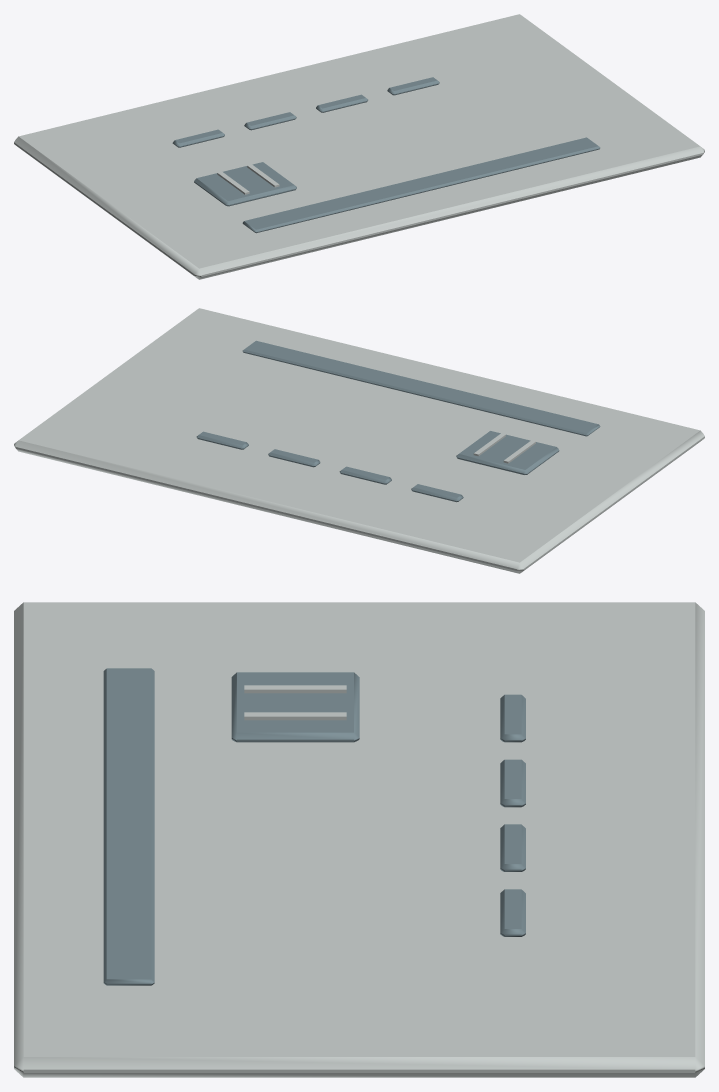
File: credit-card.glb
3 views of the same model, one above another, from view 1: azimuth 30°, elevation 25°; view 2: azimuth 150°, elevation 25°; view 3: azimuth 270°, elevation 25° (orthographic). The views are drawn at different scales.
Visible parts, largest first — view 1: card, signature_band, chip, raised_account_group.003, raised_account_group, raised_account_group.001, raised_account_group.002; view 2: card, signature_band, chip, raised_account_group, raised_account_group.001, raised_account_group.002, raised_account_group.003; view 3: card, signature_band, chip, raised_account_group, raised_account_group.001, raised_account_group.002, raised_account_group.003, chip_trace, chip_trace.001.
Part boxes in pixels (x1,y1,x2,y2): card: [14, 14, 704, 279]; signature_band: [242, 137, 600, 233]; chip: [194, 162, 296, 206]; raised_account_group.003: [387, 77, 439, 95]; raised_account_group: [172, 129, 224, 147]; raised_account_group.001: [244, 112, 296, 130]; raised_account_group.002: [316, 94, 367, 112]; card: [14, 308, 704, 573]; signature_band: [242, 340, 600, 436]; chip: [456, 431, 559, 474]; raised_account_group: [411, 484, 463, 502]; raised_account_group.001: [339, 466, 391, 484]; raised_account_group.002: [268, 449, 320, 467]; raised_account_group.003: [196, 431, 248, 449]; card: [14, 602, 704, 1077]; signature_band: [103, 668, 154, 985]; chip: [231, 672, 359, 742]; raised_account_group: [500, 694, 525, 742]; raised_account_group.001: [500, 759, 525, 807]; raised_account_group.002: [500, 824, 525, 871]; raised_account_group.003: [500, 889, 525, 936]; chip_trace: [244, 685, 346, 693]; chip_trace.001: [244, 712, 346, 720].
Size of the model in its own units: 0.0856 by 0.00285 by 0.054.
